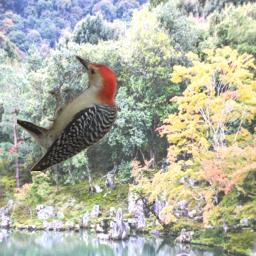Woodpecker: (17, 54, 121, 171)
